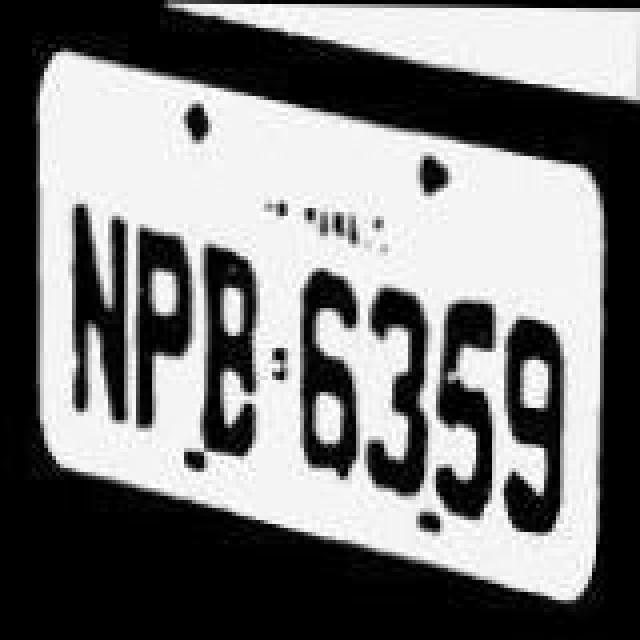3: (366, 264, 430, 504)
5: (432, 254, 500, 526)
6: (294, 248, 366, 512)
9: (498, 282, 570, 546)
B: (198, 236, 278, 456)
N: (52, 180, 128, 448)
P: (128, 212, 196, 448)
